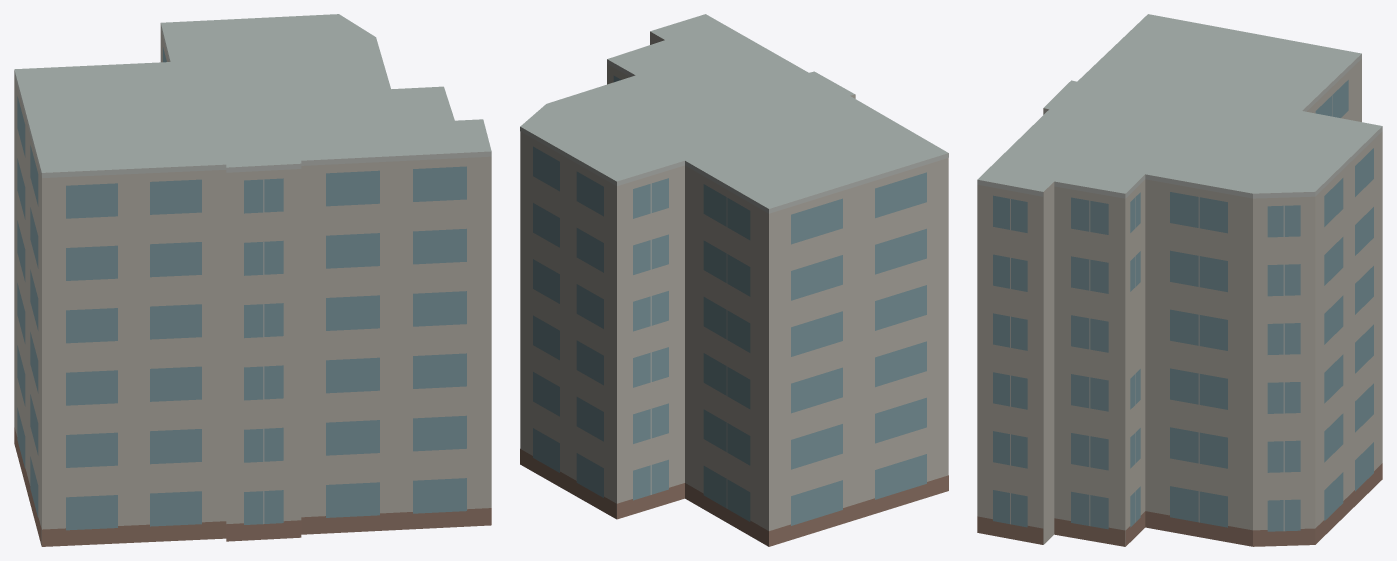
The model's file is survey-upis-33004633.glb.
3 renders of one model, left to right at view 1: azimuth 30°, elevation 25°; view 2: azimuth 150°, elevation 25°; view 3: azimuth 270°, elevation 25°, orthographic. The views are drawn at different scales.
Parts seen in each view (by area): view 1: survey-upis-33004633.tmp; view 2: survey-upis-33004633.tmp; view 3: survey-upis-33004633.tmp.
Part boxes in pixels (x1,y1,x2,y2): survey-upis-33004633.tmp: (14, 14, 491, 546); survey-upis-33004633.tmp: (520, 14, 948, 546); survey-upis-33004633.tmp: (977, 14, 1382, 546).
Bounding box in the file's own units: 19.12 × 17.5 × 18.22.
